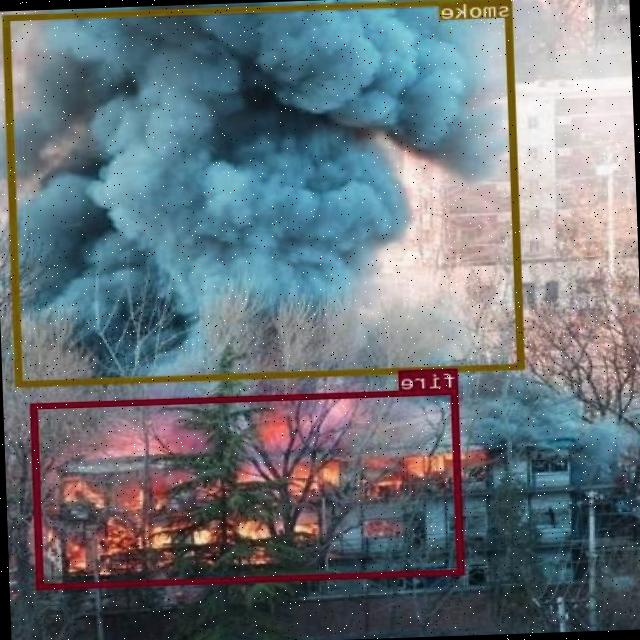fire: (32, 387, 466, 588)
smoke: (3, 0, 526, 385)
